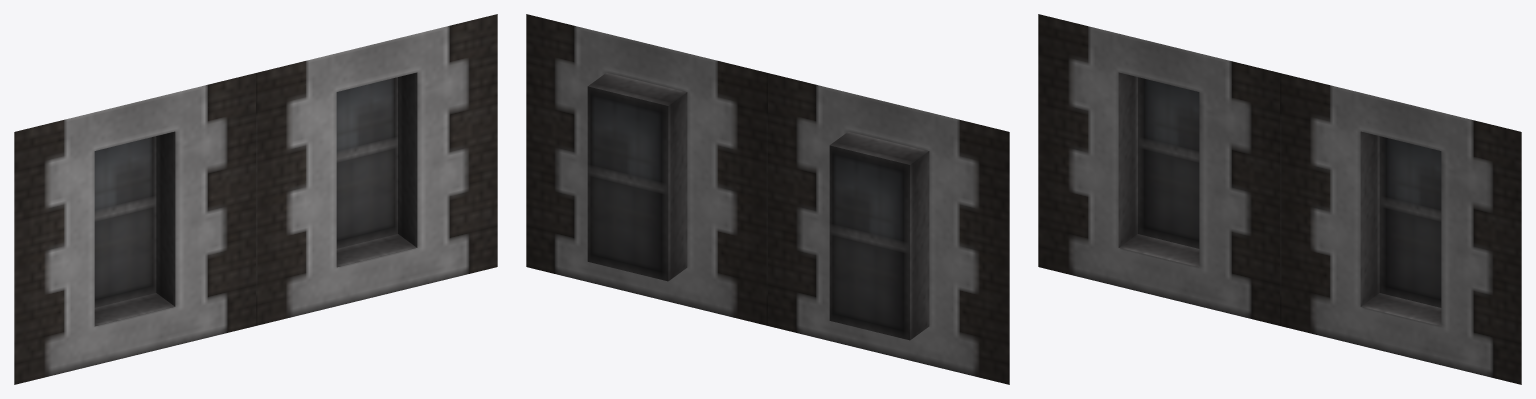
The model's file is B6_Window2x.FBX.
3 views of the same model, side by side, from view 1: azimuth 30°, elevation 25°; view 2: azimuth 150°, elevation 25°; view 3: azimuth 330°, elevation 25° (orthographic).
Visible parts, largest first — view 1: B6_Window2x; view 2: B6_Window2x; view 3: B6_Window2x.
Part boxes in pixels (x1,y1,x2,y2): B6_Window2x: [14, 14, 497, 384]; B6_Window2x: [526, 14, 1009, 384]; B6_Window2x: [1038, 14, 1521, 384].
Size of the model in its own units: 8 by 4 by 0.5453.
